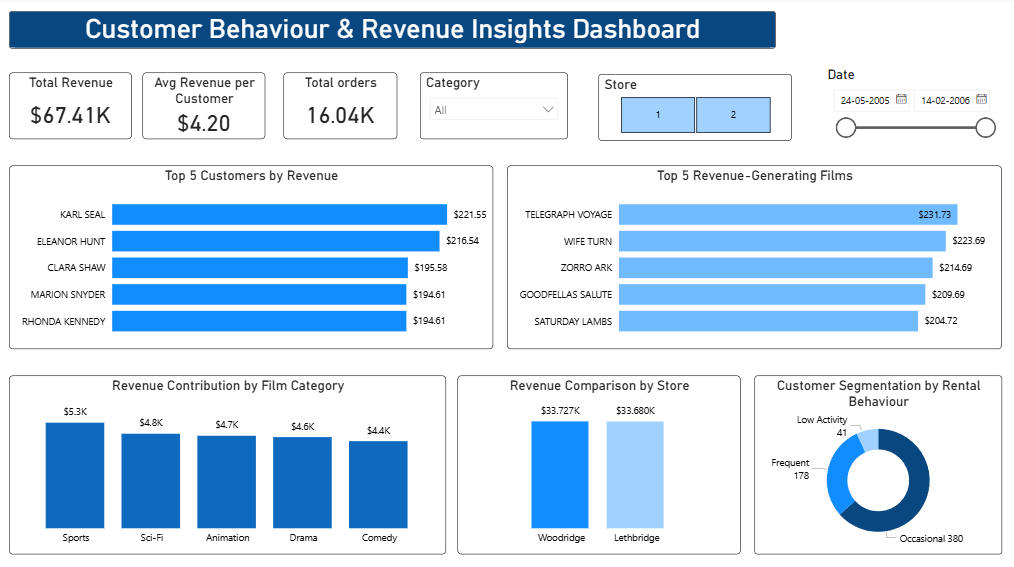

The page's visual inventory and layout, read from the dashboard file:
{"tool":"powerbi","page":{"name":"Page 1","canvas":[1280,720],"ordinal":0},"visuals":[{"type":"barChart","title":"Top 5 Customers by Revenue","fields":{"Category":["DVD RENTAL BUSINESS.customer_name"],"Y":["Sum(DVD RENTAL BUSINESS.payment_amount)"]},"box":[11.8,213.7,609.8,231.4],"z":0},{"type":"barChart","title":"Top 5 Revenue-Generating Films","fields":{"Category":["DVD RENTAL BUSINESS.film_title"],"Y":["Sum(DVD RENTAL BUSINESS.payment_amount)"]},"box":[639.2,213.7,623.5,231.4],"z":1000},{"type":"clusteredColumnChart","title":"Revenue Comparison by Store","fields":{"Category":["DVD RENTAL BUSINESS.city"],"Y":["Sum(DVD RENTAL BUSINESS.payment_amount)"]},"box":[576.5,478.4,356.9,225.5],"z":2000},{"type":"columnChart","title":"Revenue Contribution by Film Category","fields":{"Category":["DVD RENTAL BUSINESS.category"],"Y":["Sum(DVD RENTAL BUSINESS.payment_amount)"]},"box":[11.8,478.4,551,225.5],"z":3000},{"type":"donutChart","title":"Customer Segmentation by Rental Behaviour","fields":{"Category":["customer segment.customer_segment"],"Y":["Sum(customer segment.number_of_customers)"]},"box":[951,478.4,311.8,225.5],"z":4000},{"type":"card","title":"Total Revenue","fields":{"Values":["Sum(DVD RENTAL BUSINESS.payment_amount)"]},"box":[11.8,96.1,154.9,84.3],"z":5000},{"type":"textbox","title":"Customer Behaviour & Revenue Insights Dashboard","box":[11.3,18.9,965.7,47.2],"z":6000},{"type":"card","title":"Total orders","fields":{"Values":["CountNonNull(DVD RENTAL BUSINESS.customer_id)"]},"box":[356.9,96.1,143.1,84.3],"z":7000},{"type":"slicer","title":"Store","fields":{"Values":["DVD RENTAL BUSINESS.store_id"]},"box":[754.9,98,243.1,84.3],"z":8000},{"type":"slicer","title":"Category","fields":{"Values":["DVD RENTAL BUSINESS.category"]},"box":[529.4,96.1,186.3,84.3],"z":9000},{"type":"card","title":"Avg Revenue per Customer","fields":{"Values":["Avg(DVD RENTAL BUSINESS.payment_amount)"]},"box":[180.4,96.1,154.9,84.3],"z":10000},{"type":"slicer","title":"Date","fields":{"Values":["DVD RENTAL BUSINESS.payment_date"]},"box":[1037.3,88.2,225.5,105.9],"z":11000}]}

Visuals, with their boxes in screenshot pixels (x1, y1, x2, y2), scaled from the page's 1280x720 canvas onto the 1014x567 screenshot:
"Top 5 Customers by Revenue" barChart: 9, 168, 492, 351
"Top 5 Revenue-Generating Films" barChart: 506, 168, 1000, 351
"Revenue Comparison by Store" clusteredColumnChart: 457, 377, 739, 554
"Revenue Contribution by Film Category" columnChart: 9, 377, 446, 554
"Customer Segmentation by Rental Behaviour" donutChart: 753, 377, 1000, 554
"Total Revenue" card: 9, 76, 132, 142
"Customer Behaviour & Revenue Insights Dashboard" textbox: 9, 15, 774, 52
"Total orders" card: 283, 76, 396, 142
"Store" slicer: 598, 77, 791, 144
"Category" slicer: 419, 76, 567, 142
"Avg Revenue per Customer" card: 143, 76, 266, 142
"Date" slicer: 822, 69, 1000, 153
